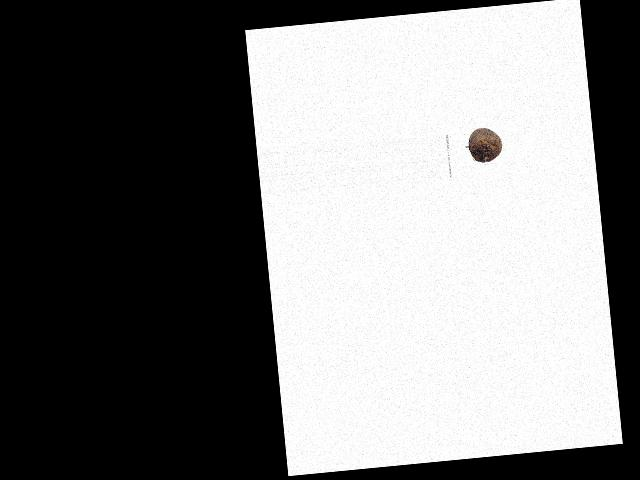beet: (467, 125, 503, 162)
